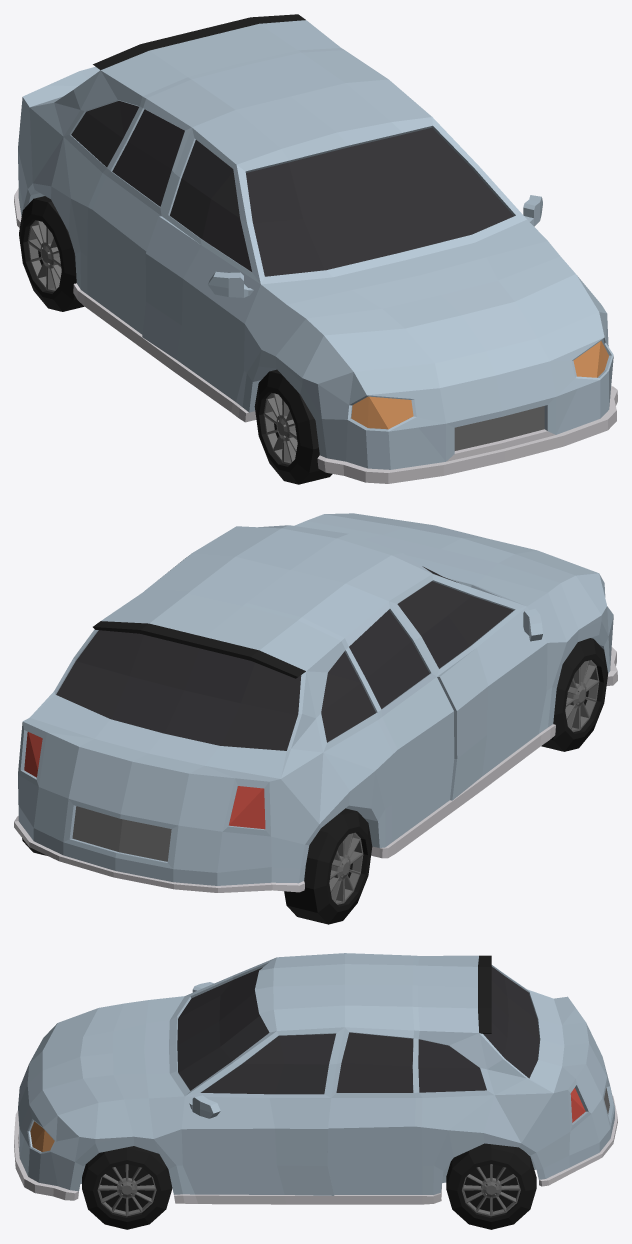
Rendered from car_sedan2.glb.
3 renders of one model, top to bottom at view 1: azimuth 30°, elevation 25°; view 2: azimuth 150°, elevation 25°; view 3: azimuth 270°, elevation 25°, orthographic. The views are drawn at different scales.
Visible parts, largest first — view 1: NormalCar2_Cube.002; view 2: NormalCar2_Cube.002; view 3: NormalCar2_Cube.002.
Part boxes in pixels (x1,y1,x2,y2): NormalCar2_Cube.002: [14, 14, 617, 484]; NormalCar2_Cube.002: [14, 513, 617, 924]; NormalCar2_Cube.002: [14, 953, 617, 1229].
Size of the model in its own units: 1.64 by 1.15 by 3.31.
Materials: 1 (1 with a texture image).
